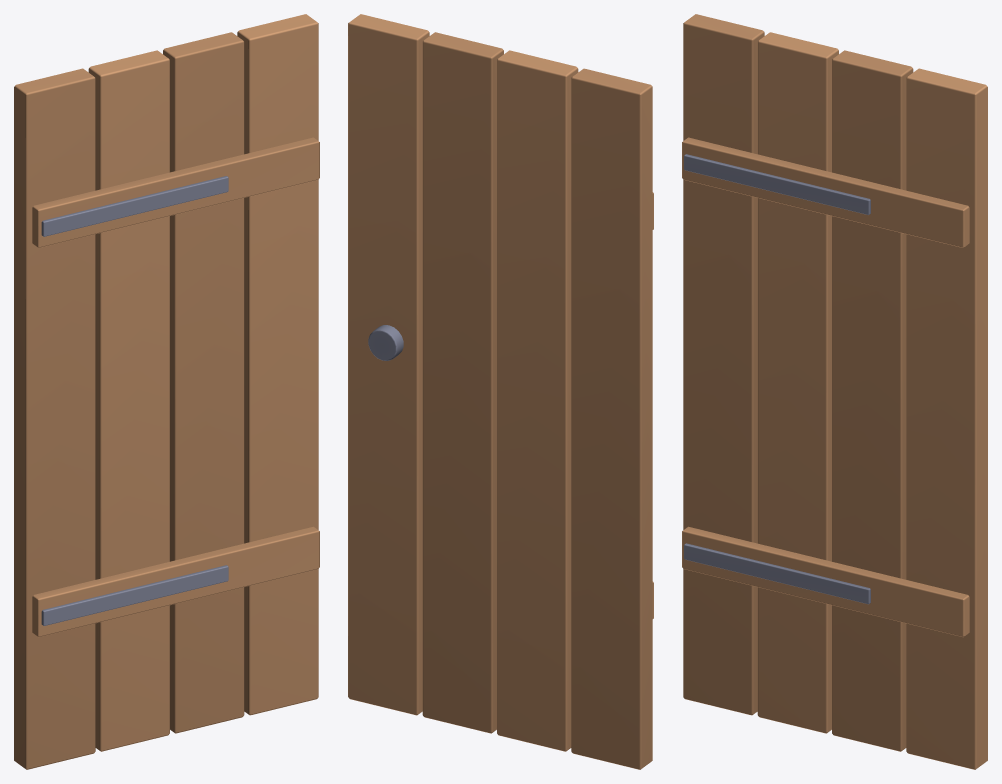
Rendered from oak-door.glb.
The picture shows the model from 3 angles, left to right: view 1: azimuth 30°, elevation 25°; view 2: azimuth 150°, elevation 25°; view 3: azimuth 330°, elevation 25°; orthographic projection.
Parts seen in each view (by area): view 1: body; view 2: body; view 3: body.
Boxes of the visible parts, x1,y1,x2,y2 form: body: (14, 14, 319, 769); body: (348, 14, 653, 769); body: (682, 14, 987, 769).
Size of what is drawn, in the model's own units: 0.79 by 1.74 by 0.134.
